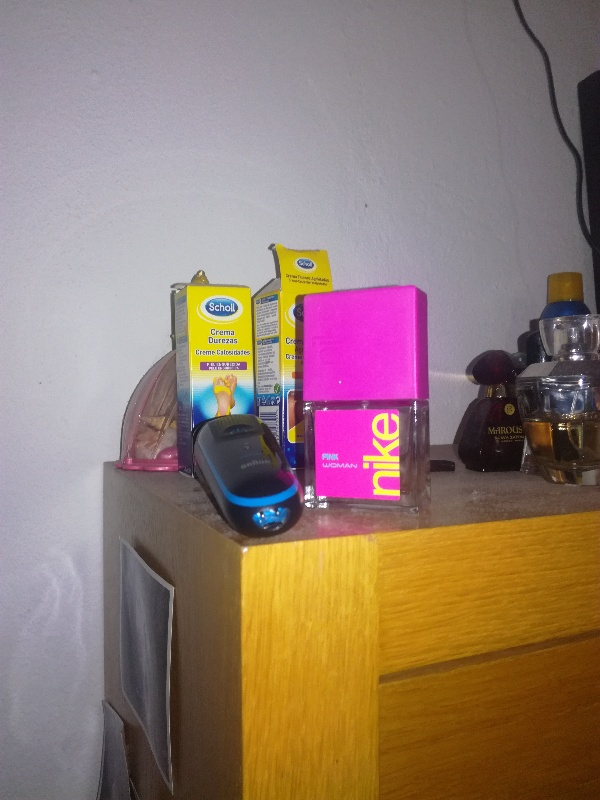beard trimmer: (190, 414, 306, 538)
